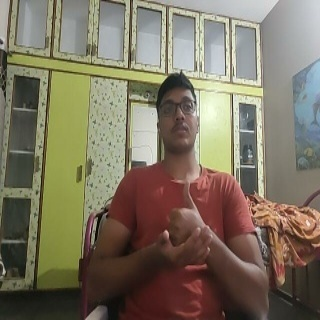Face: (156, 71, 202, 155)
Help: (151, 178, 219, 273)
